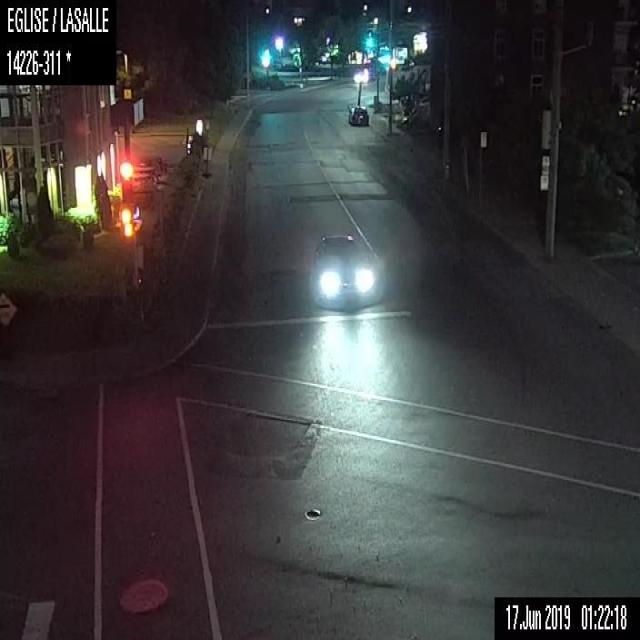vehicle: (310, 231, 376, 309), (346, 104, 369, 127), (352, 69, 368, 83)
